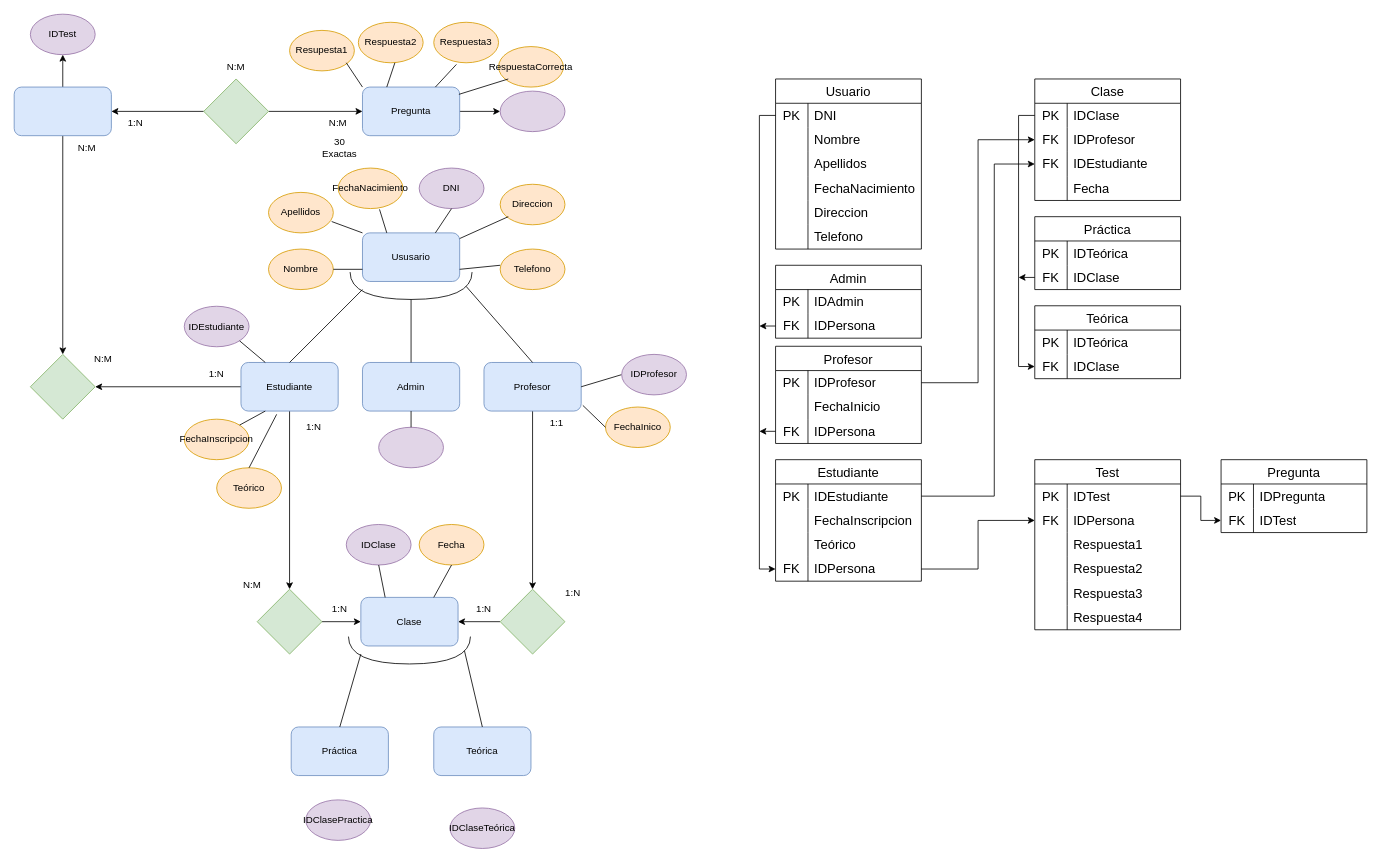
The diagram is 1381 pixels wide and 863 high, and some of its shapes have lost their labels. The shapes that lost their labels are listed below. From the top down, each one's centre as x and y in pixels, then its label:
At (62,111): "Tests".
At (236,111): "Tiene".
At (532,111): "NumPregunta".
At (62,386): "Hace".
At (410,447): "IDAdministrador".
At (289,621): "Asiste".
At (532,621): "Imparte".
